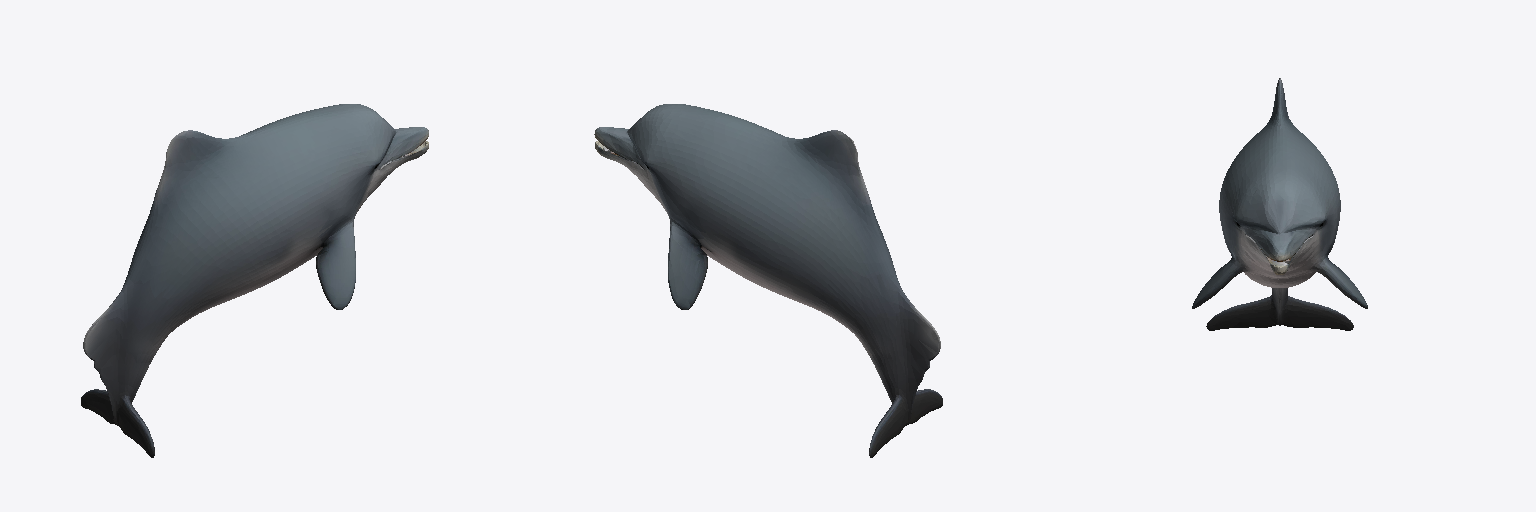
The picture shows the model from 3 angles: view 1: azimuth 30°, elevation 25°; view 2: azimuth 150°, elevation 25°; view 3: azimuth 270°, elevation 25°; orthographic projection.
Visible parts, largest first — view 1: tripo_node_207eebff-a2fa-4e5b-a90c-c5b67e5e0b03; view 2: tripo_node_207eebff-a2fa-4e5b-a90c-c5b67e5e0b03; view 3: tripo_node_207eebff-a2fa-4e5b-a90c-c5b67e5e0b03.
Boxes of the visible parts, x1=… form: tripo_node_207eebff-a2fa-4e5b-a90c-c5b67e5e0b03: x1=81, y1=104, x2=428, y2=457; tripo_node_207eebff-a2fa-4e5b-a90c-c5b67e5e0b03: x1=594, y1=104, x2=942, y2=457; tripo_node_207eebff-a2fa-4e5b-a90c-c5b67e5e0b03: x1=1192, y1=78, x2=1367, y2=330.
Size of the model in its own units: 0.9996 by 0.7903 by 0.4436.
Materials: 1 (1 with a texture image).